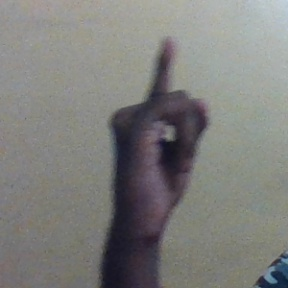I: (110, 32, 214, 228)
